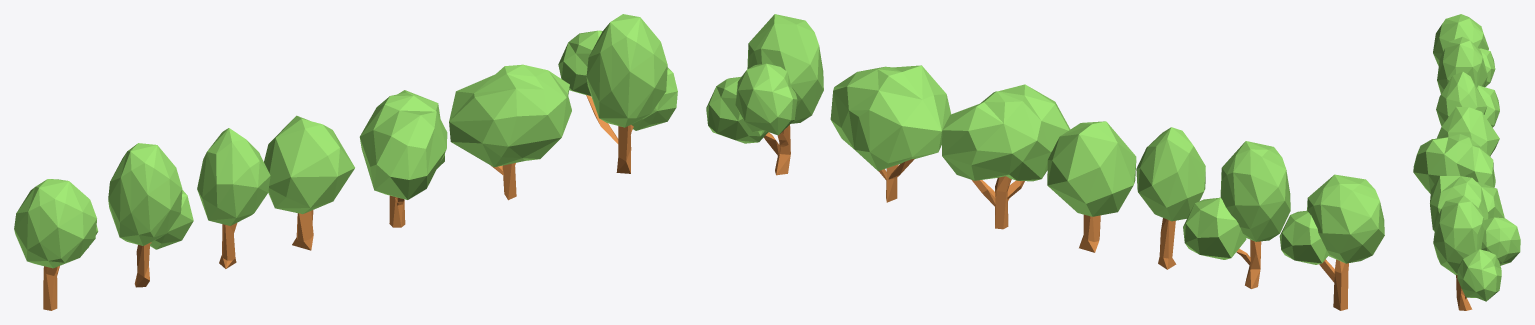
Rendered from Trees.fbx.
The picture shows the model from 3 angles, left to right: view 1: azimuth 30°, elevation 25°; view 2: azimuth 150°, elevation 25°; view 3: azimuth 270°, elevation 25°; orthographic projection. The views are drawn at different scales.
Visible parts, largest first — view 1: Tree7, Tree6, Tree5, Tree2, Tree4, Tree1, Tree3; view 2: Tree7, Tree5, Tree6, Tree2, Tree1, Tree4, Tree3; view 3: Tree7, Tree5, Tree2, Tree6, Tree1, Tree4, Tree3.
Boxes of the visible parts, x1=… form: Tree7: x1=558, y1=14, x2=677, y2=173; Tree6: x1=449, y1=64, x2=571, y2=200; Tree5: x1=359, y1=90, x2=447, y2=227; Tree2: x1=108, y1=143, x2=193, y2=287; Tree4: x1=264, y1=115, x2=354, y2=250; Tree1: x1=14, y1=179, x2=98, y2=310; Tree3: x1=197, y1=128, x2=270, y2=268; Tree7: x1=706, y1=14, x2=823, y2=175; Tree5: x1=942, y1=84, x2=1070, y2=229; Tree6: x1=830, y1=65, x2=950, y2=202; Tree2: x1=1183, y1=141, x2=1290, y2=288; Tree1: x1=1279, y1=174, x2=1384, y2=310; Tree4: x1=1047, y1=121, x2=1136, y2=252; Tree3: x1=1136, y1=127, x2=1205, y2=269; Tree7: x1=1433, y1=195, x2=1520, y2=310; Tree5: x1=1413, y1=134, x2=1495, y2=193; Tree2: x1=1437, y1=37, x2=1499, y2=127; Tree6: x1=1430, y1=176, x2=1504, y2=231; Tree1: x1=1433, y1=14, x2=1495, y2=87; Tree4: x1=1436, y1=106, x2=1499, y2=156; Tree3: x1=1436, y1=71, x2=1486, y2=126.
Size of the model in its own units: 2670 by 13715 by 3018.
